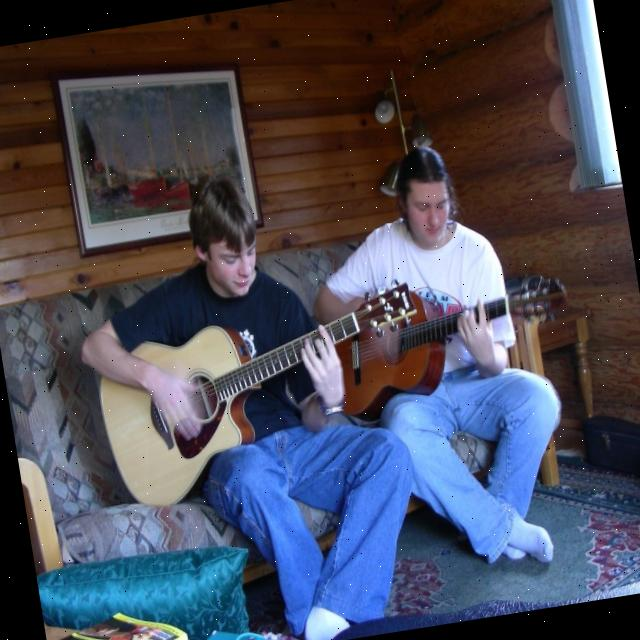guitar: (89, 280, 444, 521), (323, 262, 584, 425)
